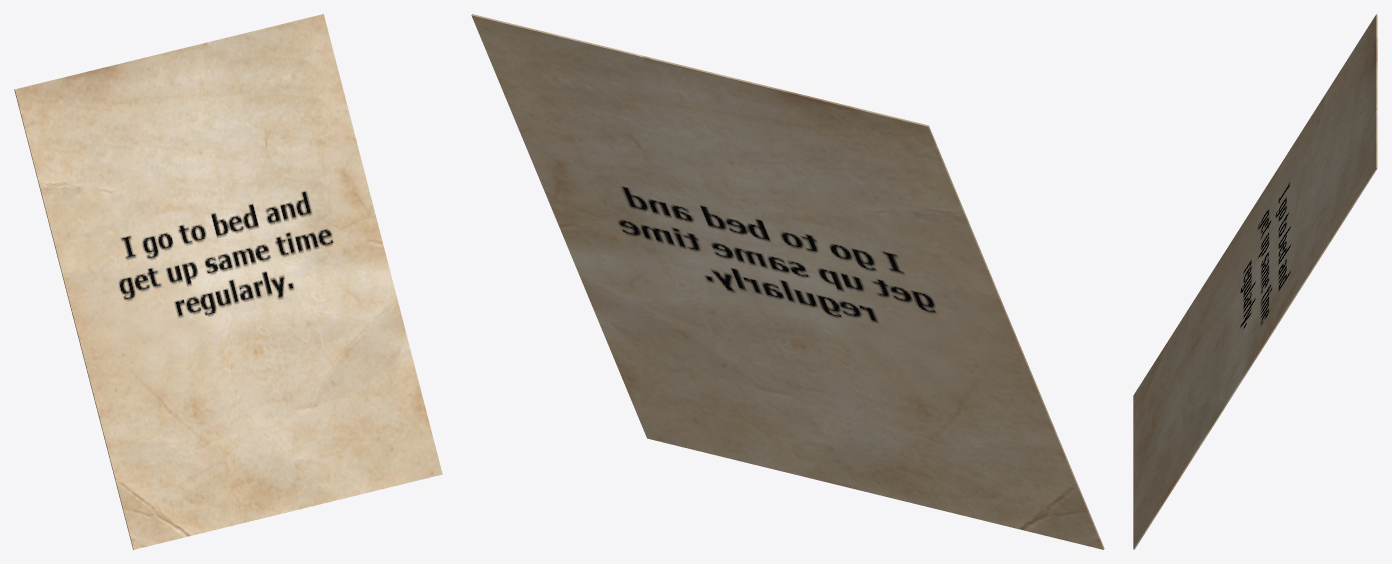
The model's file is Paper_Animation_01.FBX.
The picture shows the model from 3 angles, left to right: view 1: azimuth 30°, elevation 25°; view 2: azimuth 150°, elevation 25°; view 3: azimuth 270°, elevation 25°; orthographic projection. The views are drawn at different scales.
Parts seen in each view (by area): view 1: Paper002; view 2: Paper002; view 3: Paper002.
Boxes of the visible parts, x1,y1,x2,y2 form: Paper002: (14,14,442,549); Paper002: (471,14,1104,549); Paper002: (1133,14,1377,549).
Bounding box in the file's own units: 30 × 34.69 × 20.09.
